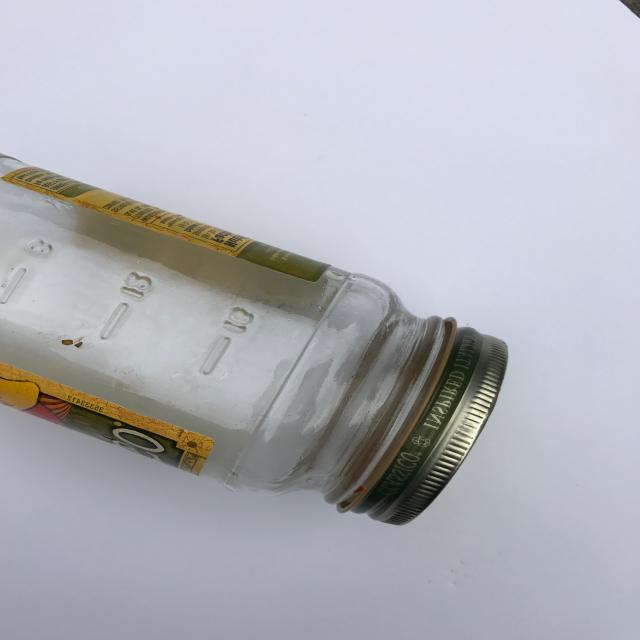glass: (0, 145, 510, 527)
